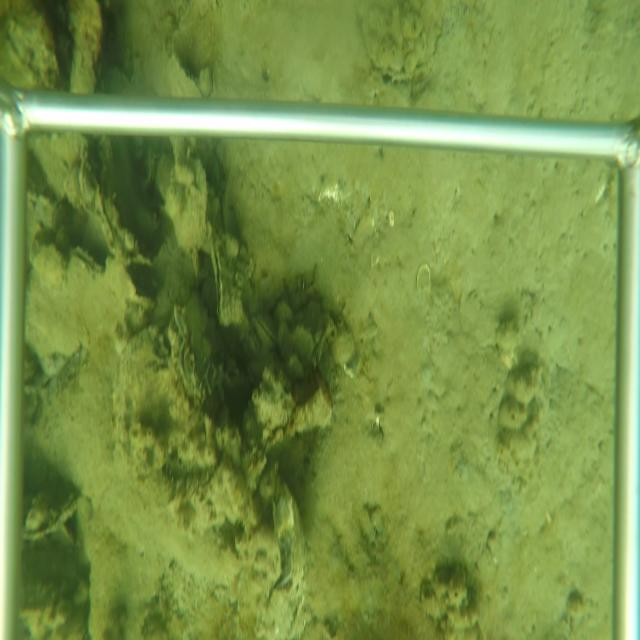Oyster-Closed: (22, 491, 82, 547), (209, 228, 232, 326), (253, 315, 277, 352)
Oyster-Indeterminate: (25, 243, 135, 370), (169, 159, 212, 258)
